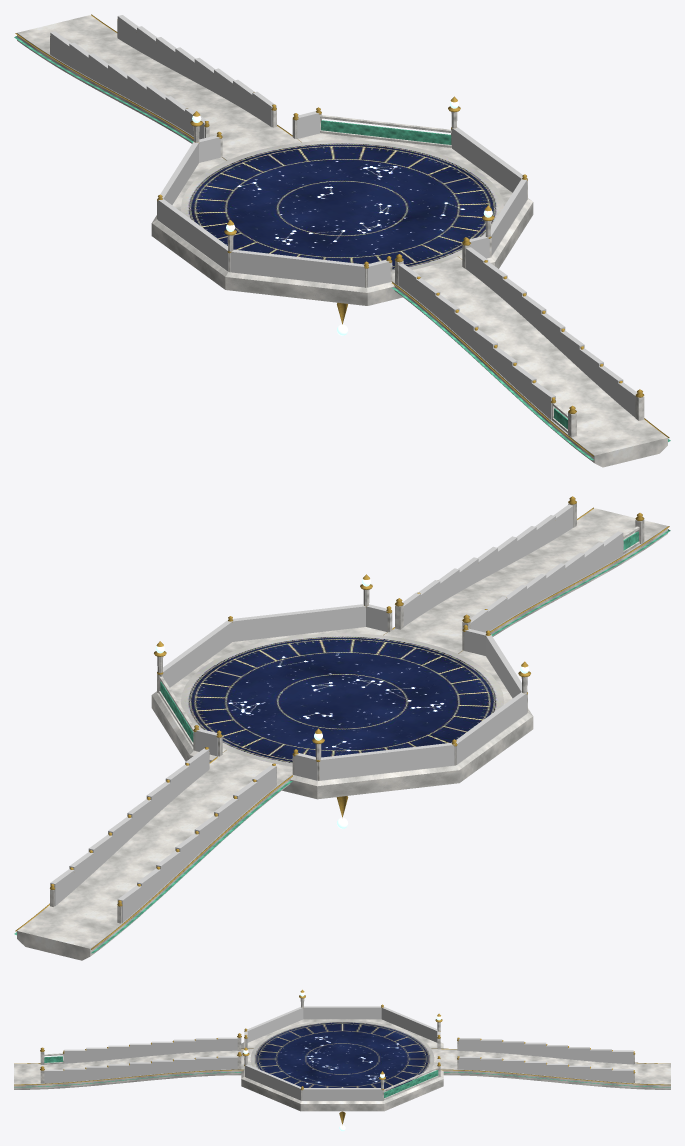
The model's file is jade_bridge_long.glb.
3 renders of one model, top to bottom at view 1: azimuth 30°, elevation 25°; view 2: azimuth 150°, elevation 25°; view 3: azimuth 270°, elevation 25°, orthographic. The views are drawn at different scales.
Visible parts, largest first — view 1: BelvedereInlay, BridgeDeck, BelvedereBase, BelvedereRail-convcolonly.005, BridgeBalustrade, BridgeJade, BridgeGold, BelvedereRail-convcolonly.004, BelvedereRail-convcolonly.009, BelvedereRail-convcolonly.008, BelvedereRail-convcolonly.003; view 2: BelvedereInlay, BridgeDeck, BelvedereBase, BelvedereRail-convcolonly.003, BelvedereRail-convcolonly.008, BridgeBalustrade, BridgeGold, BelvedereRail-convcolonly.004, BelvedereRail-convcolonly.009, BridgeJade, BelvedereRail-convcolonly.005; view 3: BelvedereInlay, BridgeDeck, BelvedereBase, BridgeGold, BelvedereRail-convcolonly.004, BridgeBalustrade, BelvedereRail-convcolonly.009, BridgeJade, BelvedereRail-convcolonly.003, BelvedereRail-convcolonly.005, BelvedereRail-convcolonly.008, BridgeRail-convcolonly.024 (+32 smaller).
Boxes of the visible parts, bbox=[...] form: BelvedereInlay: bbox=[180, 140, 503, 273]; BridgeDeck: bbox=[17, 15, 667, 467]; BelvedereBase: bbox=[151, 133, 533, 305]; BelvedereRail-convcolonly.005: bbox=[230, 249, 365, 287]; BridgeBalustrade: bbox=[50, 21, 644, 437]; BridgeJade: bbox=[14, 36, 670, 460]; BridgeGold: bbox=[15, 14, 669, 456]; BelvedereRail-convcolonly.004: bbox=[157, 199, 228, 271]; BelvedereRail-convcolonly.009: bbox=[452, 127, 522, 192]; BelvedereRail-convcolonly.008: bbox=[491, 179, 527, 255]; BelvedereRail-convcolonly.003: bbox=[157, 141, 198, 204]; BelvedereInlay: bbox=[180, 633, 504, 766]; BridgeDeck: bbox=[17, 508, 667, 960]; BelvedereBase: bbox=[151, 627, 533, 799]; BelvedereRail-convcolonly.003: bbox=[319, 742, 454, 780]; BelvedereRail-convcolonly.008: bbox=[232, 604, 365, 641]; BridgeBalustrade: bbox=[50, 503, 644, 923]; BridgeGold: bbox=[15, 496, 669, 949]; BelvedereRail-convcolonly.004: bbox=[456, 692, 527, 764]; BelvedereRail-convcolonly.009: bbox=[162, 620, 232, 687]; BridgeJade: bbox=[14, 529, 670, 953]; BelvedereRail-convcolonly.005: bbox=[485, 635, 521, 698]; BelvedereInlay: bbox=[250, 1020, 434, 1092]; BridgeDeck: bbox=[14, 1049, 670, 1089]; BelvedereBase: bbox=[241, 1019, 443, 1111]; BridgeGold: bbox=[14, 989, 670, 1124]; BelvedereRail-convcolonly.004: bbox=[303, 1006, 381, 1019]; BridgeBalustrade: bbox=[40, 998, 634, 1100]; BelvedereRail-convcolonly.009: bbox=[302, 1088, 382, 1100]; BridgeJade: bbox=[14, 1056, 670, 1098]; BelvedereRail-convcolonly.003: bbox=[381, 1007, 437, 1042]; BelvedereRail-convcolonly.005: bbox=[247, 1007, 303, 1042]; BelvedereRail-convcolonly.008: bbox=[245, 1064, 301, 1100]; BridgeRail-convcolonly.024: bbox=[524, 1042, 546, 1056].
Size of what is drawn, in the model's own units: 18.46 by 10.17 by 60.
5 materials, 4 textured.
